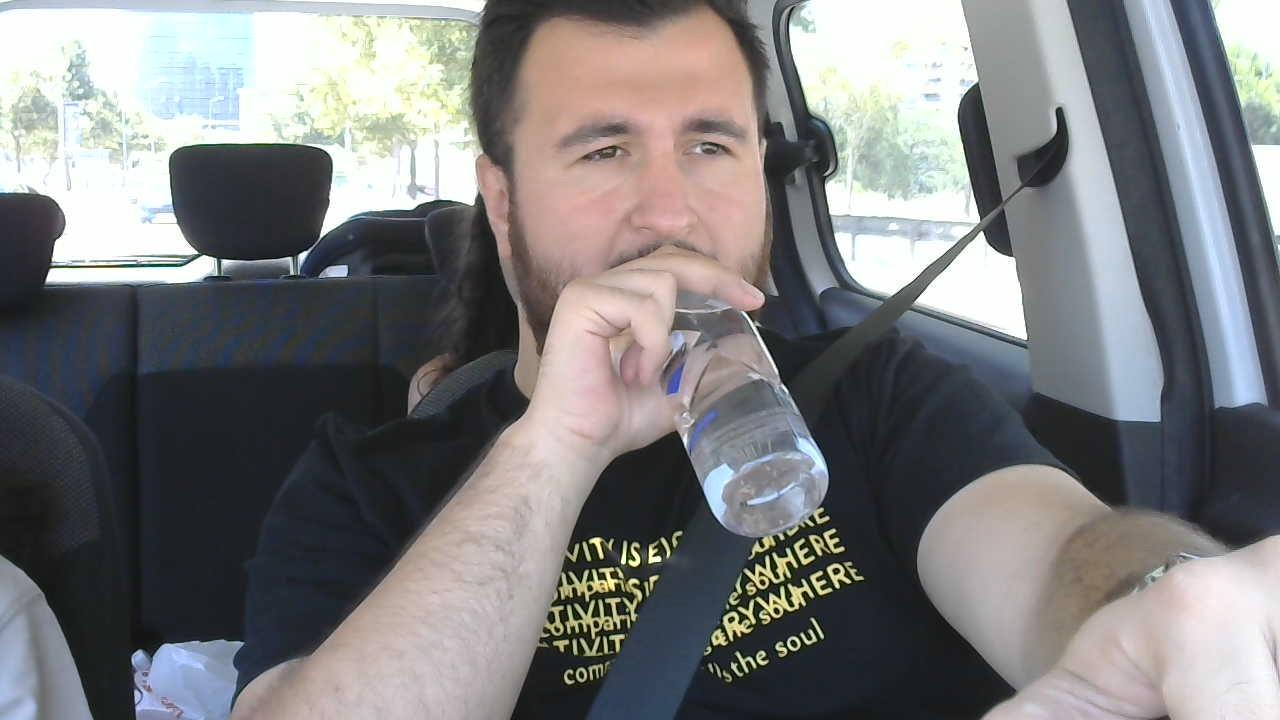Drinking: (639, 250, 827, 540)
